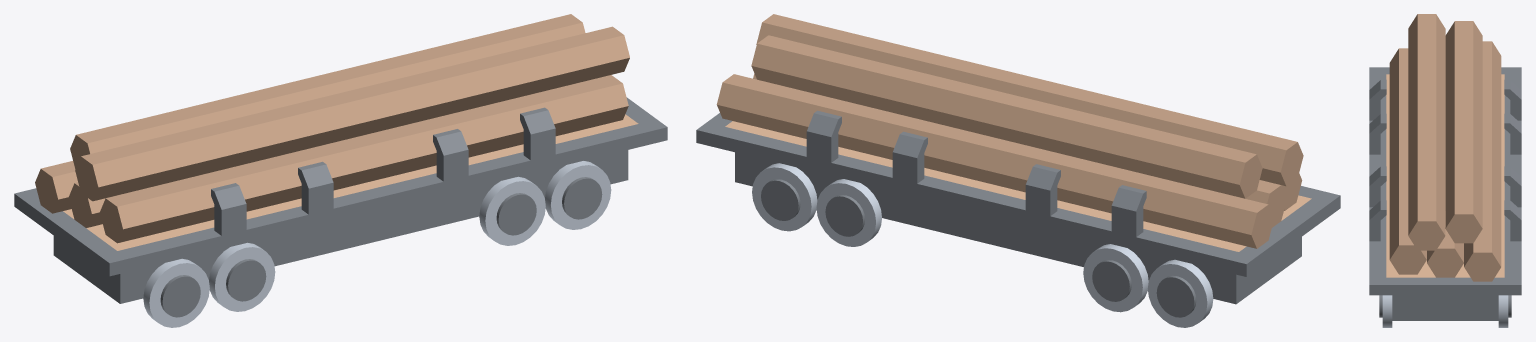
Rendered from trainWagonFlat.glb.
3 renders of one model, left to right at view 1: azimuth 30°, elevation 25°; view 2: azimuth 150°, elevation 25°; view 3: azimuth 270°, elevation 25°, orthographic. The views are drawn at different scales.
Visible parts, largest first — view 1: log (×5), trainWagonFlat(Clone), wheel (×2); view 2: log (×4), trainWagonFlat(Clone), wheel (×2); view 3: log (×5), trainWagonFlat(Clone), wheel.
Boxes of the visible parts, box(x1,y1,x2,y2) form: log (×5): box(35, 14, 629, 243); trainWagonFlat(Clone): box(14, 97, 667, 303); wheel (×2): box(143, 161, 611, 327); log (×4): box(716, 14, 1303, 248); trainWagonFlat(Clone): box(696, 110, 1340, 304); wheel (×2): box(752, 163, 1213, 327); log (×5): box(1389, 14, 1501, 281); trainWagonFlat(Clone): box(1369, 67, 1521, 320); wheel: box(1379, 295, 1511, 327).
Bounding box in the file's own units: 0.4484 × 0.1245 × 0.1327.
